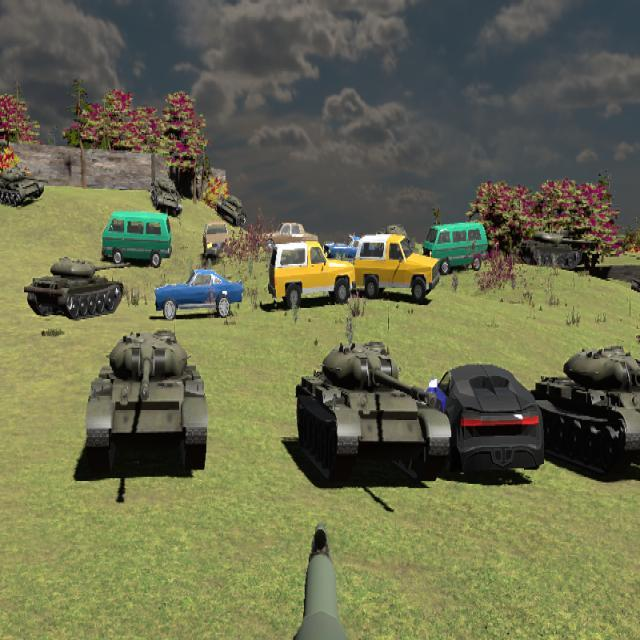Tank: (296, 340, 451, 486), (85, 331, 208, 475), (532, 345, 640, 477), (24, 256, 126, 321), (518, 230, 596, 272), (0, 167, 47, 207), (151, 177, 183, 217), (216, 193, 247, 227), (630, 271, 640, 297)
car: (421, 362, 545, 477), (354, 233, 440, 302), (268, 241, 354, 308), (154, 267, 243, 320), (101, 211, 171, 269), (422, 222, 488, 275), (259, 220, 318, 256), (323, 234, 370, 263), (203, 220, 233, 258)
